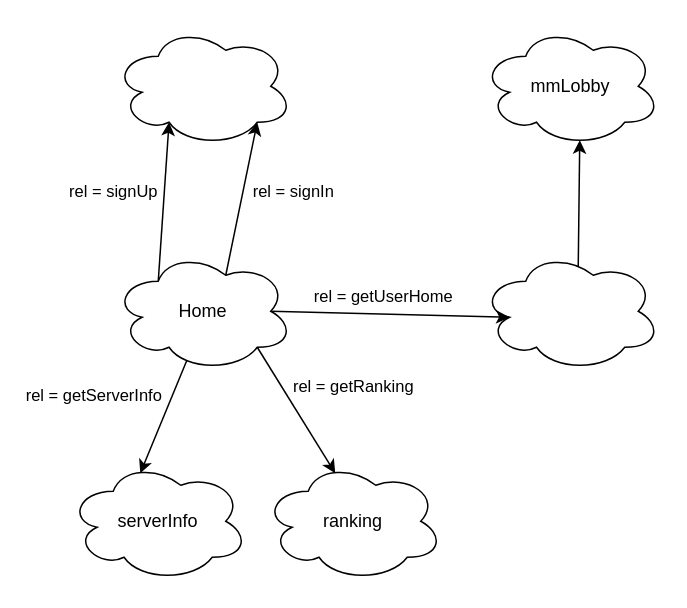
This 687x608 diagram has some shape labels left out. Each missing label, with the box of its shape:
Token: (112, 25, 293, 146)
User-Home: (479, 250, 661, 371)
